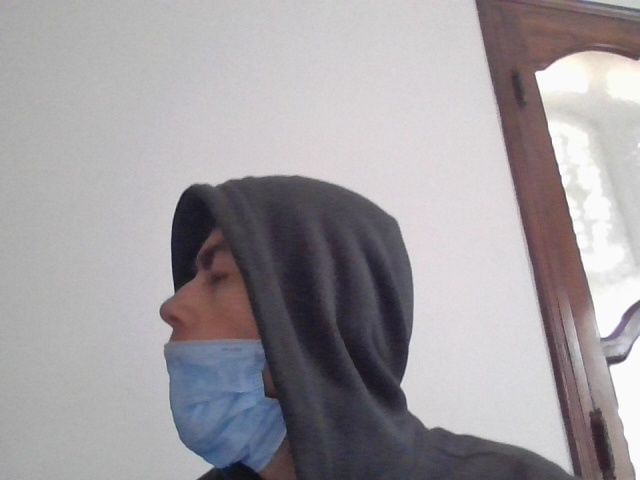mask_weared_incorrect: (159, 211, 311, 480)
